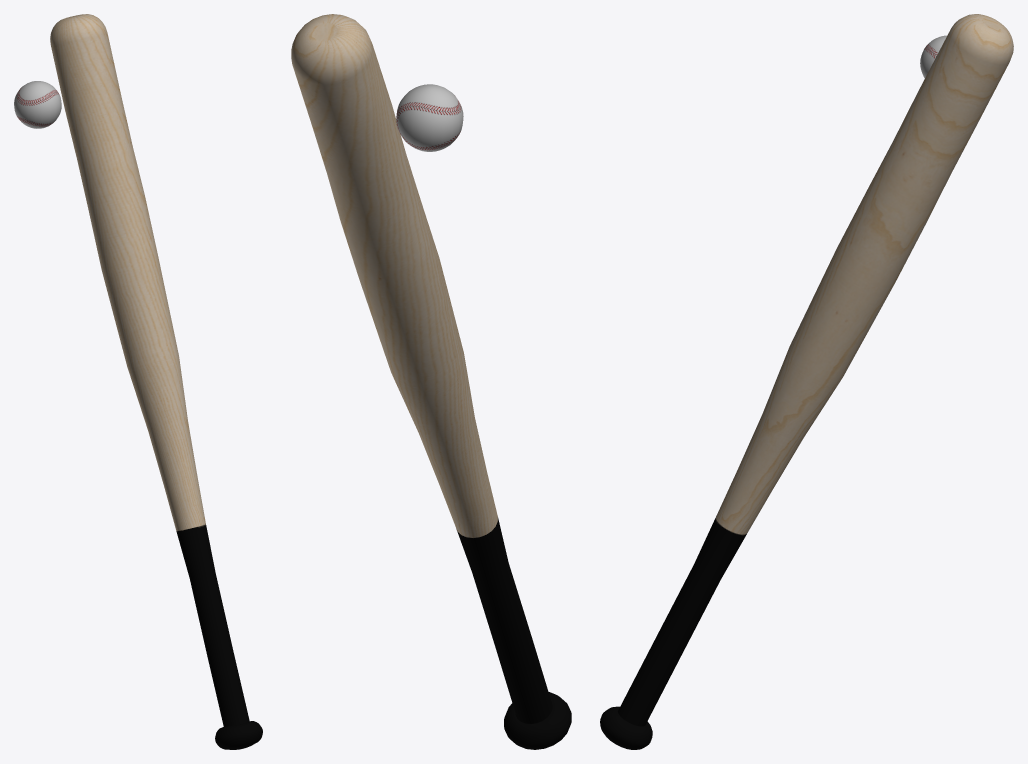
The model's file is ballandbat.glb.
The picture shows the model from 3 angles, left to right: view 1: azimuth 30°, elevation 25°; view 2: azimuth 150°, elevation 25°; view 3: azimuth 270°, elevation 25°; orthographic projection. The views are drawn at different scales.
Visible parts, largest first — view 1: pSphere2, pSphere3; view 2: pSphere2, pSphere3; view 3: pSphere2.
Part boxes in pixels (box(x1,y1,x2,y2)): pSphere2: box(50, 14, 262, 749); pSphere3: box(14, 81, 61, 128); pSphere2: box(291, 14, 571, 749); pSphere3: box(396, 84, 463, 151); pSphere2: box(600, 14, 1013, 749).
Bounding box in the file's own units: 0.1177 × 0.673 × 0.3485.
2 materials, 2 textured.
